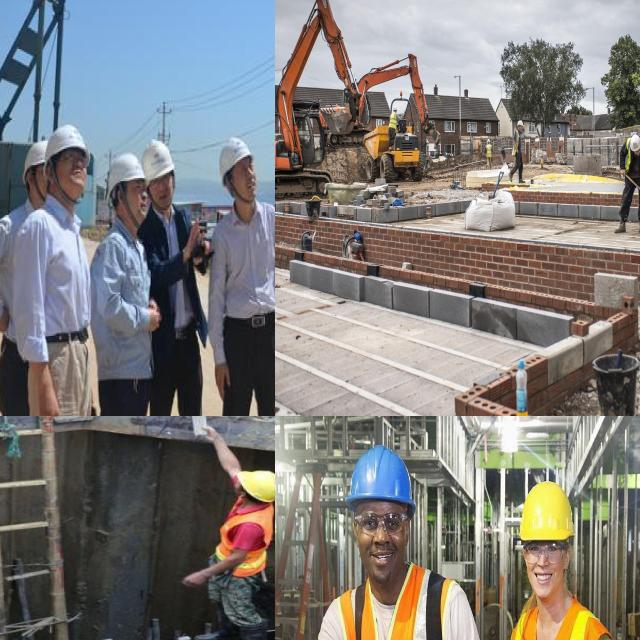face_nomask: (352, 502, 411, 580), (522, 538, 566, 597), (52, 147, 88, 204), (226, 156, 266, 200), (118, 178, 149, 229), (149, 172, 175, 208)
glasses: (353, 508, 408, 536), (522, 540, 567, 567)
hand_noglove: (181, 224, 208, 270), (189, 426, 228, 452), (35, 382, 64, 416), (211, 362, 232, 400), (175, 571, 206, 592), (148, 301, 162, 339)
head_helmet: (349, 452, 414, 496), (522, 483, 570, 540), (140, 134, 174, 180), (215, 136, 253, 173), (240, 469, 275, 507), (105, 152, 142, 183), (47, 121, 85, 148), (25, 141, 47, 165), (628, 135, 640, 151), (515, 118, 527, 128), (484, 136, 491, 144), (394, 108, 399, 114)
person: (332, 446, 487, 640), (143, 142, 212, 416), (214, 139, 275, 416), (36, 123, 92, 416), (502, 488, 608, 640), (200, 427, 275, 640), (41, 126, 91, 416), (97, 152, 147, 416), (0, 129, 31, 416), (621, 136, 640, 233), (511, 119, 529, 181), (481, 134, 496, 164), (388, 104, 402, 134)
shoes: (613, 219, 628, 235), (508, 170, 514, 183), (518, 178, 526, 185), (637, 218, 640, 236)
vest: (337, 591, 446, 640), (208, 502, 275, 576), (621, 149, 640, 171), (515, 130, 524, 152), (390, 117, 398, 127), (488, 142, 492, 154)
